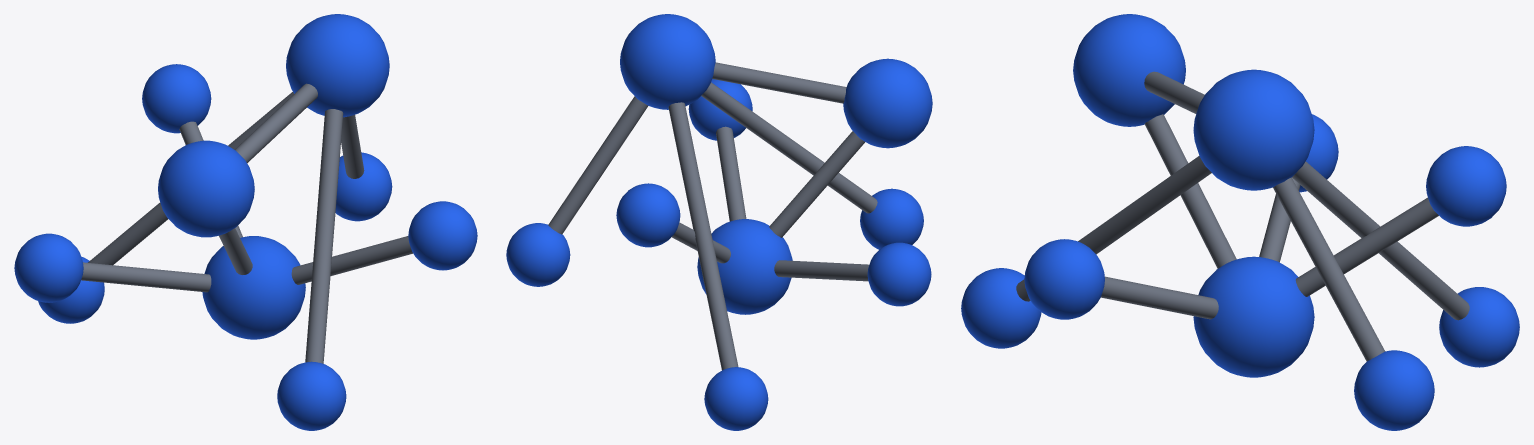
Rendered from c2h6o-dimetil.glb.
The picture shows the model from 3 angles, left to right: view 1: azimuth 30°, elevation 25°; view 2: azimuth 150°, elevation 25°; view 3: azimuth 270°, elevation 25°; orthographic projection. The views are drawn at different scales.
Parts seen in each view (by area): view 1: C2, C1, O1, object 16, H5, H3, H2, H1, H4, object 14, object 17, object 13 (+5 smaller); view 2: C2, O1, C1, object 17, object 16, H1, H3, H6, H4, H5, object 15, object 11 (+5 smaller); view 3: C2, C1, O1, H2, H1, H4, H6, H5, object 17, object 15, object 16, object 10 (+5 smaller).
Boxes of the visible parts, bbox=[...] form: C2: bbox=[286, 14, 389, 117]; C1: bbox=[202, 236, 305, 339]; O1: bbox=[158, 140, 254, 237]; object 16: bbox=[305, 109, 343, 363]; H5: bbox=[277, 361, 346, 430]; H3: bbox=[14, 233, 83, 302]; H2: bbox=[408, 201, 477, 270]; H1: bbox=[142, 64, 211, 133]; H4: bbox=[335, 152, 392, 221]; object 14: bbox=[81, 262, 211, 292]; object 17: bbox=[88, 92, 293, 265]; object 13: bbox=[291, 236, 412, 284]; C2: bbox=[620, 14, 715, 109]; O1: bbox=[843, 58, 932, 148]; C1: bbox=[697, 219, 792, 314]; object 17: bbox=[668, 102, 738, 370]; object 16: bbox=[701, 82, 877, 213]; H1: bbox=[616, 183, 680, 247]; H3: bbox=[867, 242, 931, 306]; H6: bbox=[704, 367, 768, 430]; H4: bbox=[506, 223, 570, 286]; H5: bbox=[860, 188, 923, 249]; object 15: bbox=[548, 96, 648, 234]; object 11: bbox=[712, 62, 846, 103]; C2: bbox=[1193, 69, 1314, 190]; C1: bbox=[1193, 256, 1314, 377]; O1: bbox=[1073, 14, 1185, 126]; H2: bbox=[1024, 239, 1104, 319]; H1: bbox=[1426, 146, 1506, 226]; H4: bbox=[1354, 350, 1434, 430]; H6: bbox=[1439, 287, 1519, 367]; H5: bbox=[961, 268, 1041, 348]; object 17: bbox=[1292, 161, 1469, 320]; object 15: bbox=[1273, 177, 1385, 361]; object 16: bbox=[1016, 156, 1211, 301]; object 10: bbox=[1144, 114, 1236, 268].
Size of the model in its own units: 0.4099 by 0.3162 by 0.4152.
